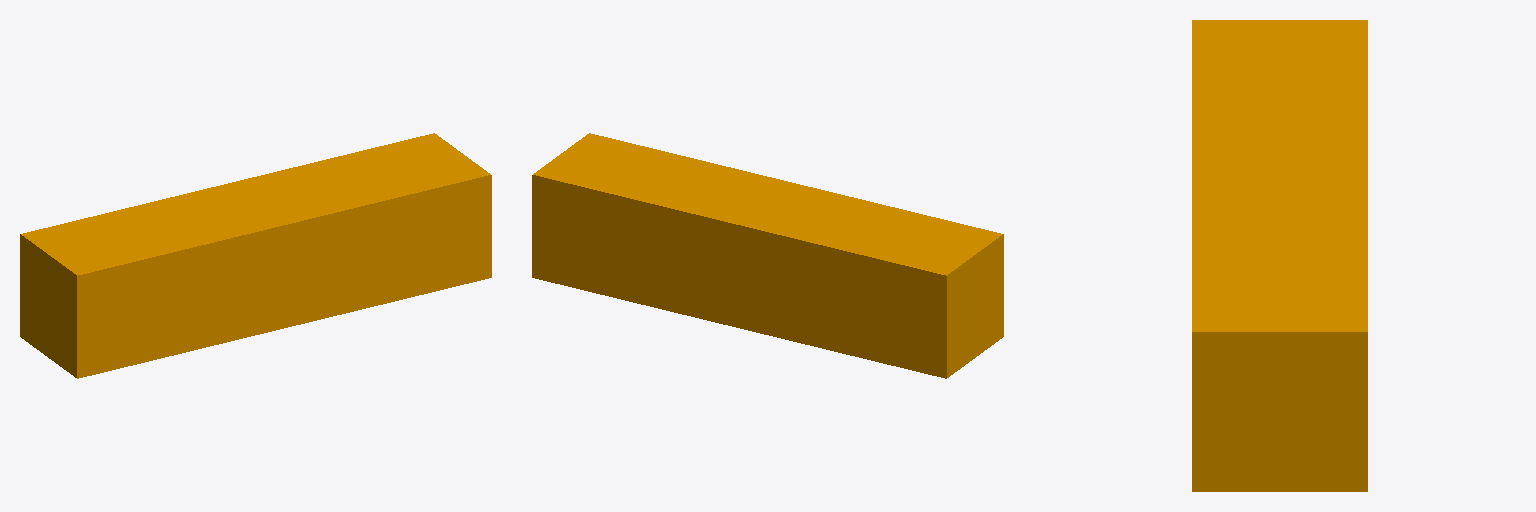
robot.urdf — object:
<?xml version="1.0"?>
<robot name="object">
  <link name="object">
    <visual>
      <origin xyz="0 0 0"/>
      <geometry>
        <box size="0.21 0.05 0.05"/>
      </geometry>
    </visual>
    <collision>
      <origin xyz="0 0 0"/>
      <geometry>
        <box size="0.21 0.05 0.05"/>
      </geometry>
    </collision>
     <inertial>
      <mass value="0.116"/>
      <inertia ixx="0.000045" ixy="0.0" ixz="0.0" iyy="0.000450" iyz="0.0" izz="0.000447"/>
    </inertial>
  </link>
</robot>

--- What the picture shows (computed from the rendered views, not written in the file) ---
3 views of the same robot in one strip: view 1: azimuth 30°, elevation 25°; view 2: azimuth 150°, elevation 25°; view 3: azimuth 270°, elevation 25° (orthographic).
Robot: object — 1 links, 0 joints (none); root link object; default pose: all joints at 0.
Links seen in each view (by area): view 1: object; view 2: object; view 3: object.
Link boxes in pixels (<box>): object: <box>20,133,491,378</box>; object: <box>532,133,1003,378</box>; object: <box>1192,20,1367,491</box>.
Size in the robot's own frame: 0.21 by 0.05 by 0.05 metres.
Geometry: primitives only (box / cylinder / sphere), no mesh files.
